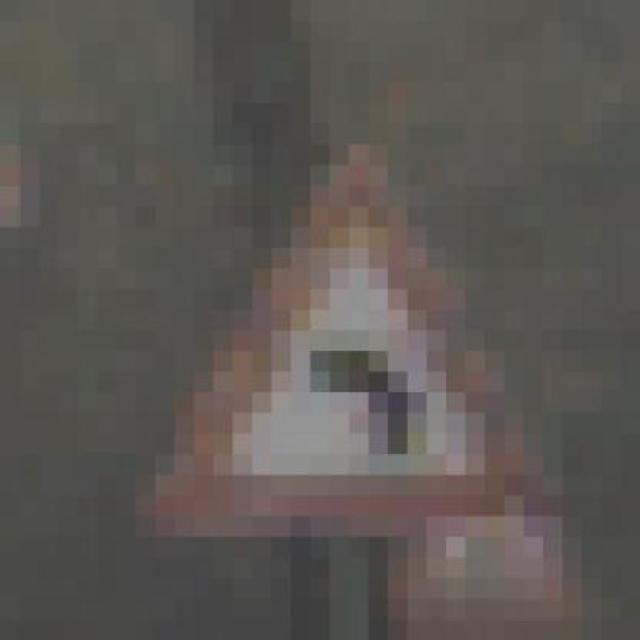Dangerous Left Curve Ahead: (116, 145, 544, 537)
